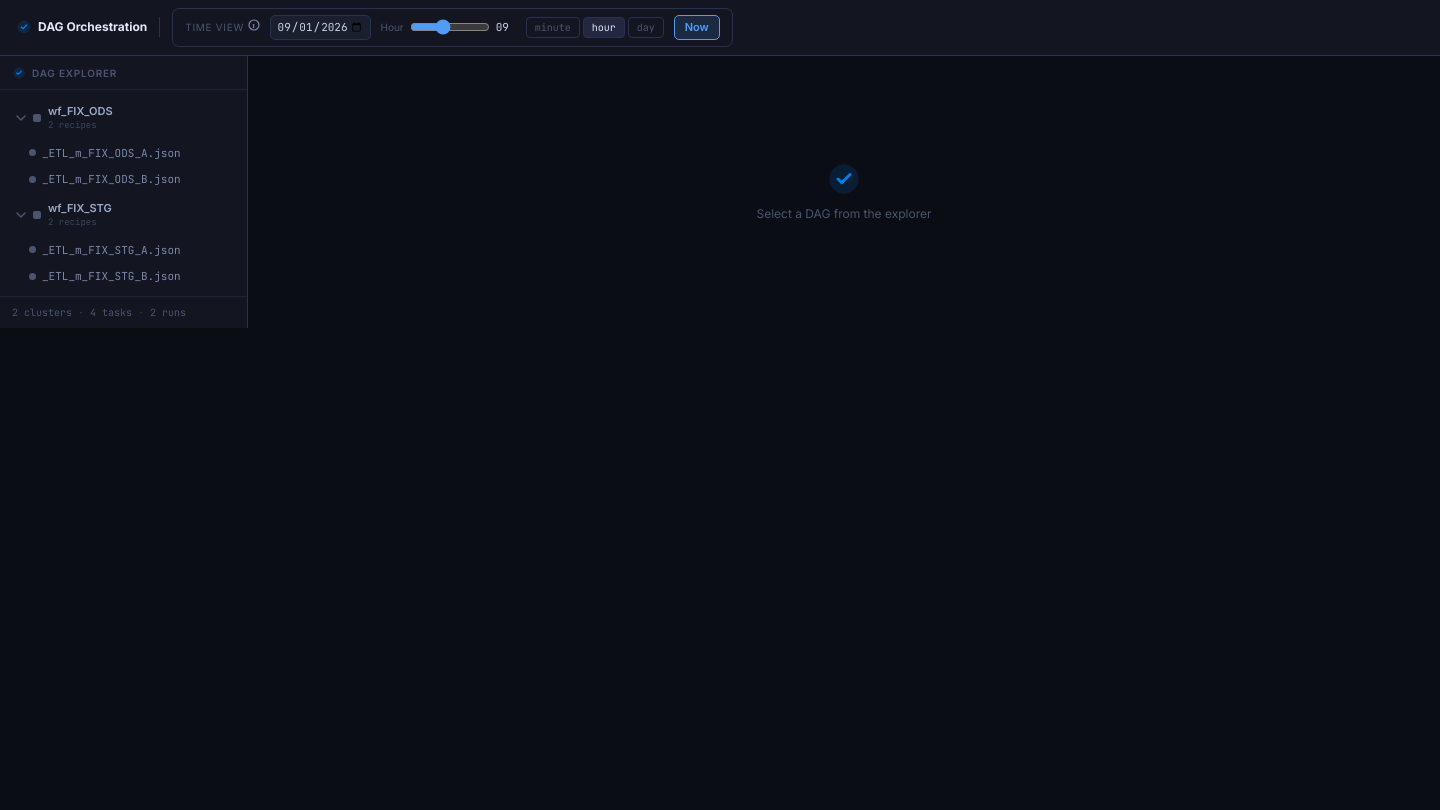
Test: ETLDag — real run selector, per-date coloring, GCP links, replay-mock › (c) task A panel: Message row + GCP links anchored at the newest run
The image size is (1440, 810).
Click the text "wf_FIX_ODS": (80, 110) [48,104,113,118]
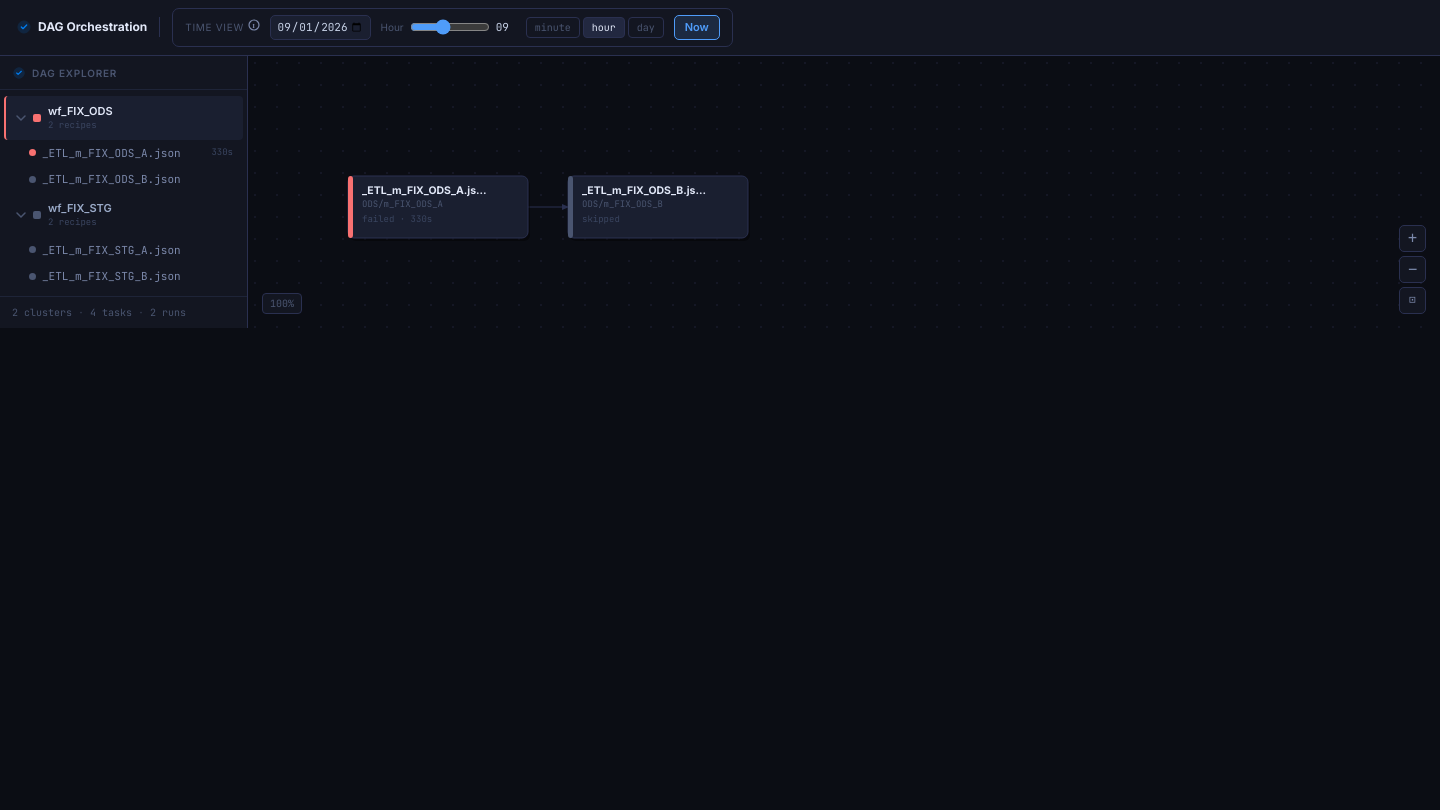
Click the text "_ETL_m_FIX_ODS_A.json": (111, 152) [42,146,181,160]
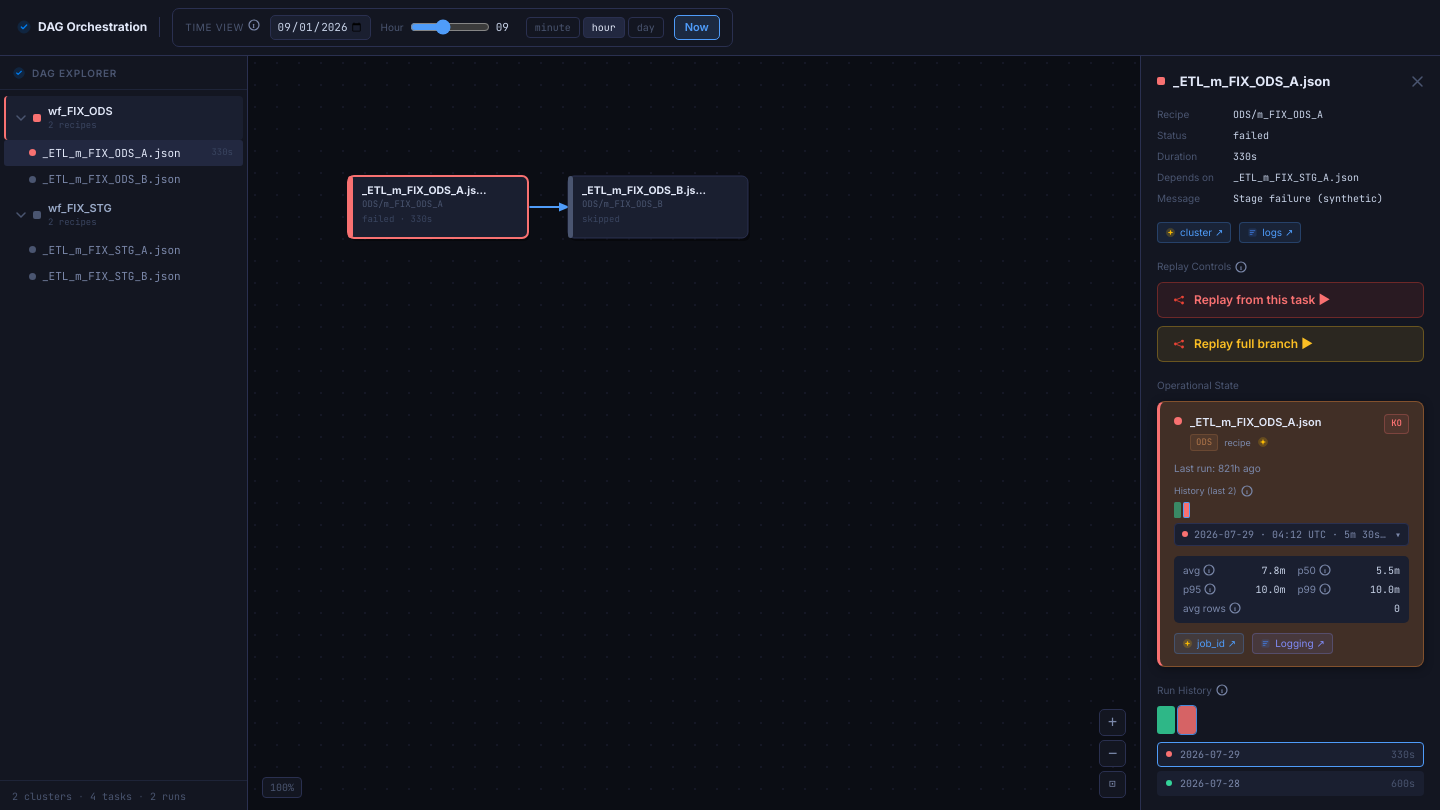
Check: the text "Stage failure (synthetic)" is shown, box [1233,191,1383,206]
